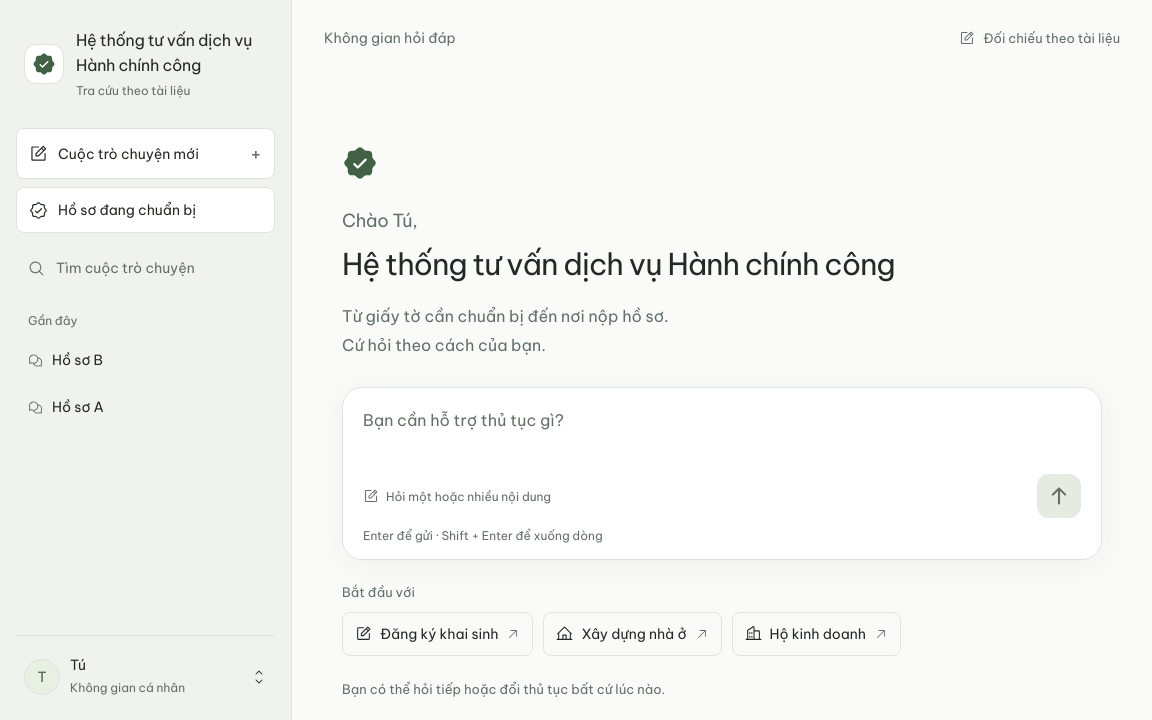
Test: G6 account workspace › ignores late history from a previously selected conversation
Click the button "Hồ sơ A" at (124, 407), box [16,385,231,429]
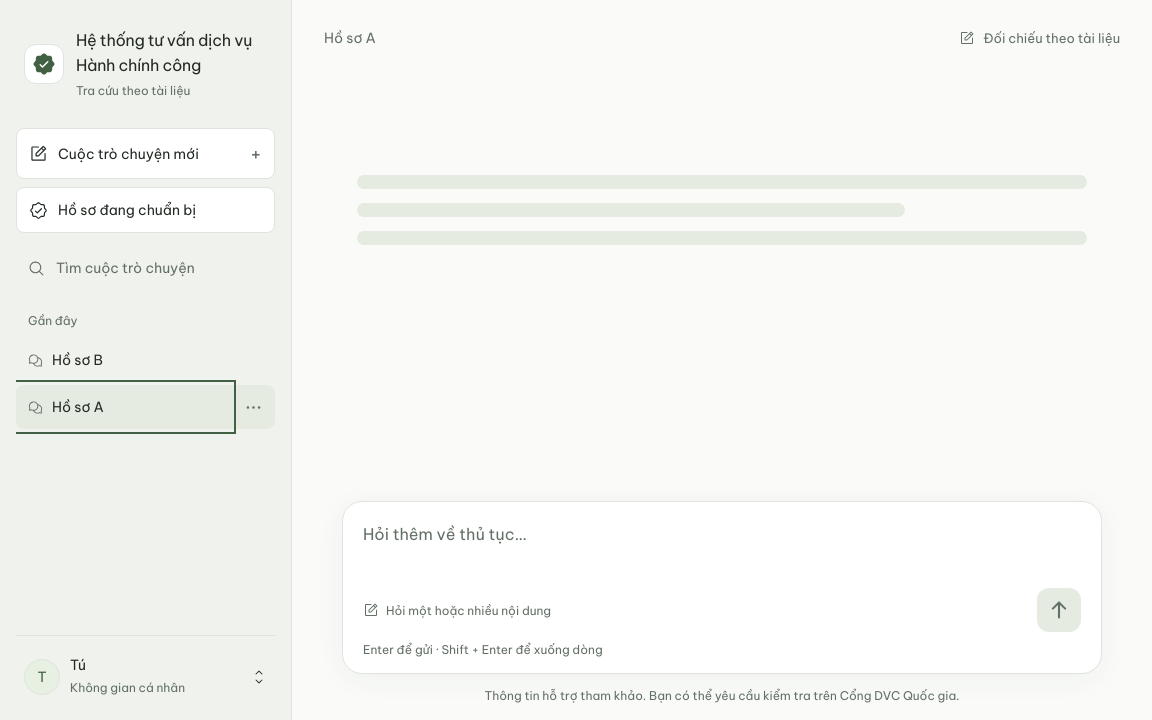
Click the button "Hồ sơ B" at (124, 360), box [16,338,231,382]
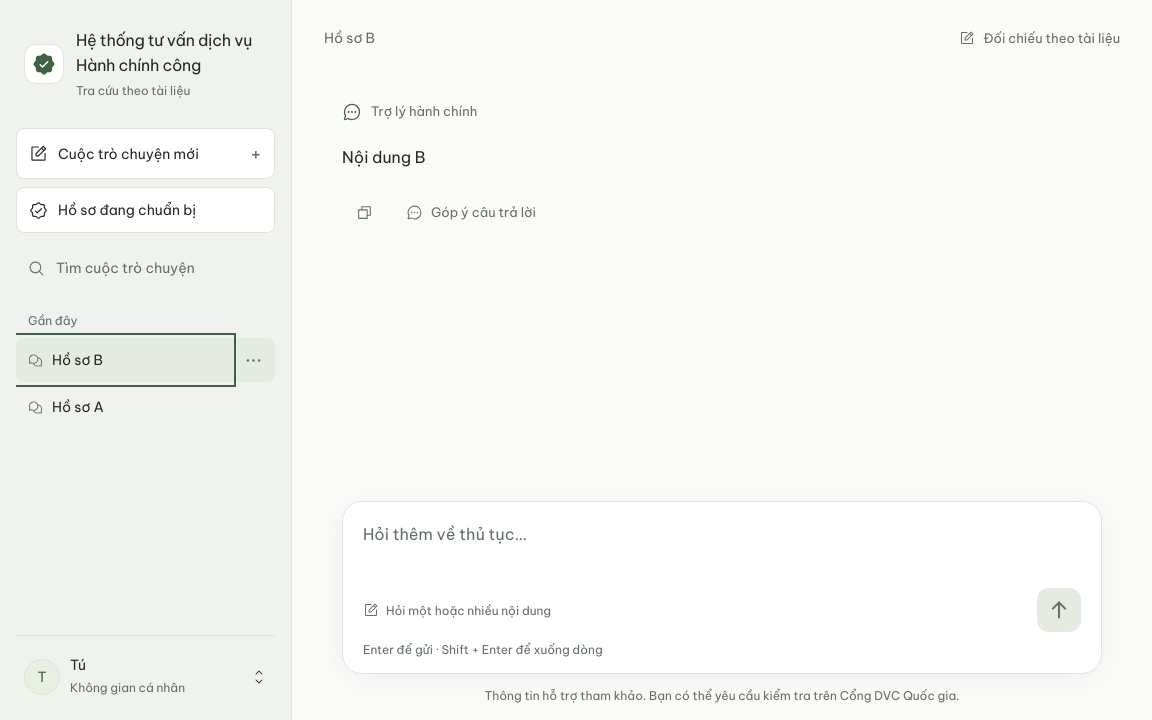
expect the text "Nội dung B" is shown: met, box [342,147,426,167]
